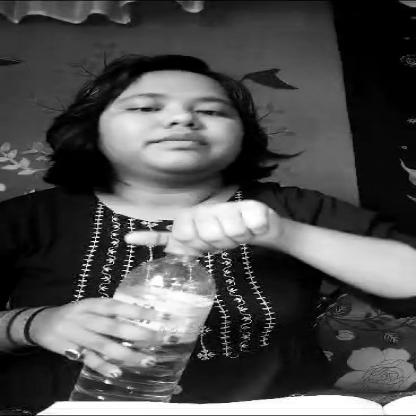Normal: (86, 56, 266, 192)
